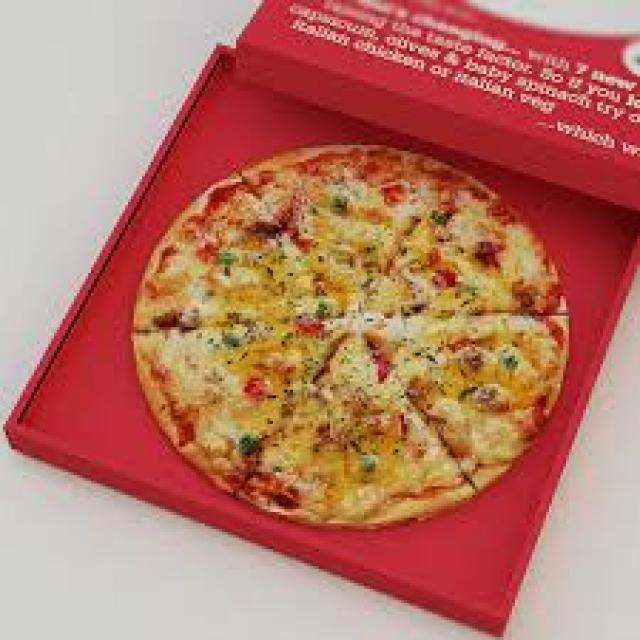organic waste: (128, 139, 566, 526)
